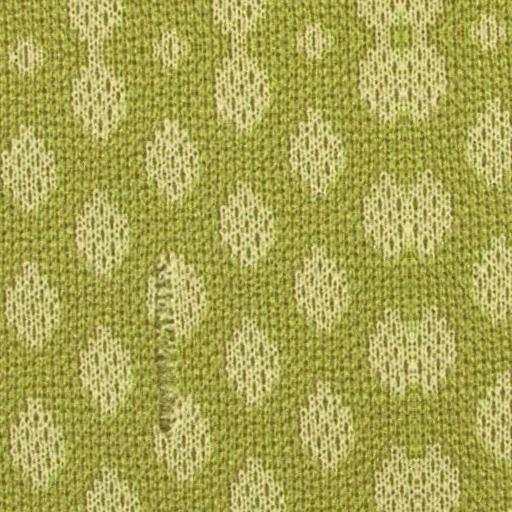slub: (145, 260, 191, 440)
